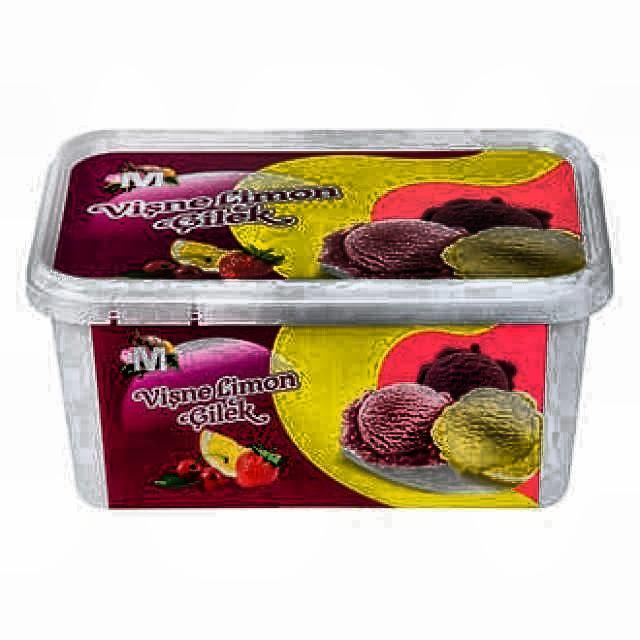plastic: (22, 127, 614, 513)
